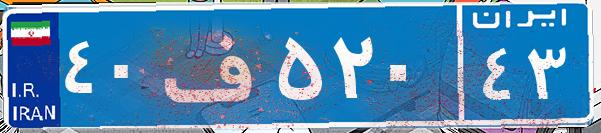0: (385, 28, 445, 110), (110, 28, 158, 105)
2: (330, 28, 385, 110)
3: (525, 38, 570, 115)
4: (57, 26, 110, 107), (475, 38, 525, 113)
5: (273, 28, 330, 110)
ف: (158, 15, 273, 115)
